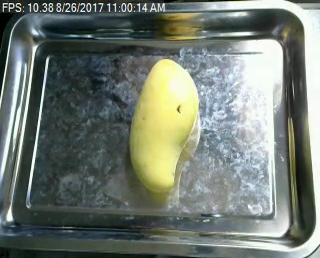Mango: (127, 57, 199, 191)
